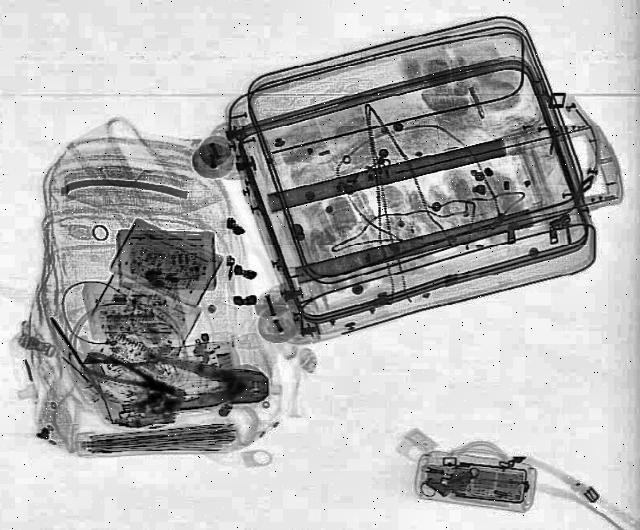Pliers: (132, 354, 272, 414), (78, 347, 192, 406)
